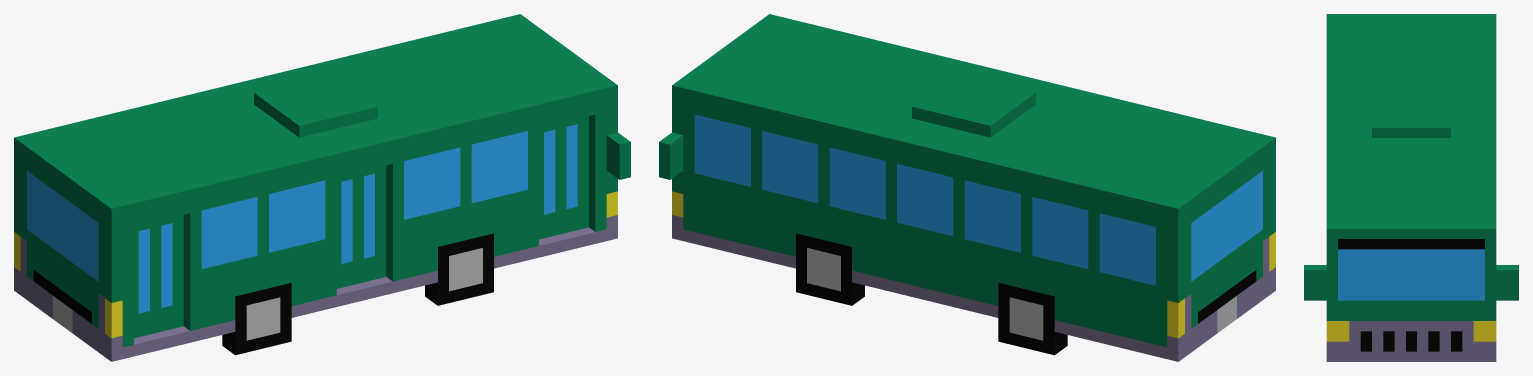
The model's file is bus_b.obj.
3 views of the same model, side by side, from view 1: azimuth 30°, elevation 25°; view 2: azimuth 150°, elevation 25°; view 3: azimuth 270°, elevation 25° (orthographic). The views are drawn at different scales.
Bounding box in the file's own units: 4.5 × 1.6 × 1.9.
1 material, 1 textured.
